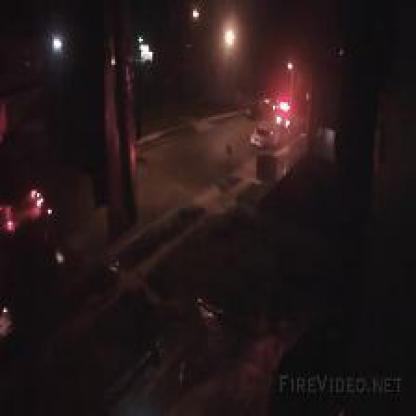other: (181, 4, 241, 52), (264, 61, 302, 126), (0, 183, 48, 226), (45, 31, 70, 55)
